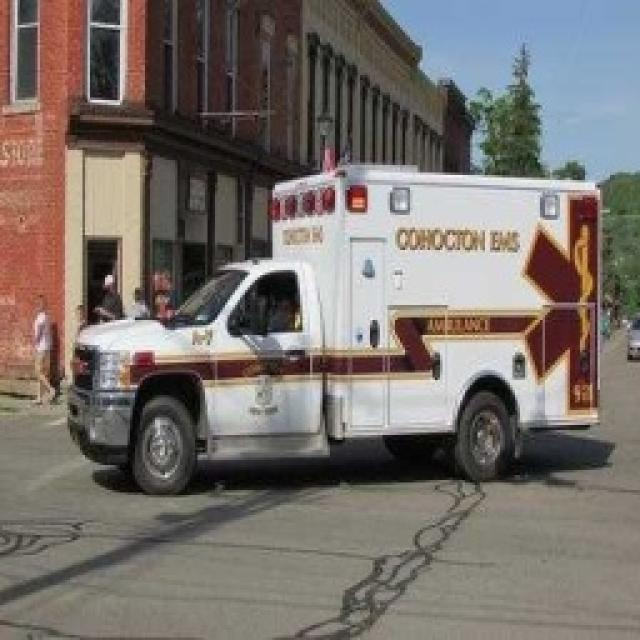emergency-vehicle: (40, 129, 640, 519)
